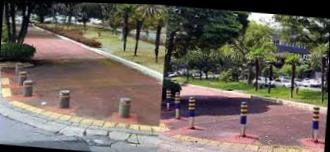Animal: (183, 91, 208, 131), (233, 96, 251, 135), (306, 102, 321, 142), (118, 96, 139, 116), (55, 89, 72, 107), (166, 84, 174, 116), (173, 90, 183, 112), (23, 79, 34, 98), (15, 68, 25, 84), (15, 62, 21, 68)
